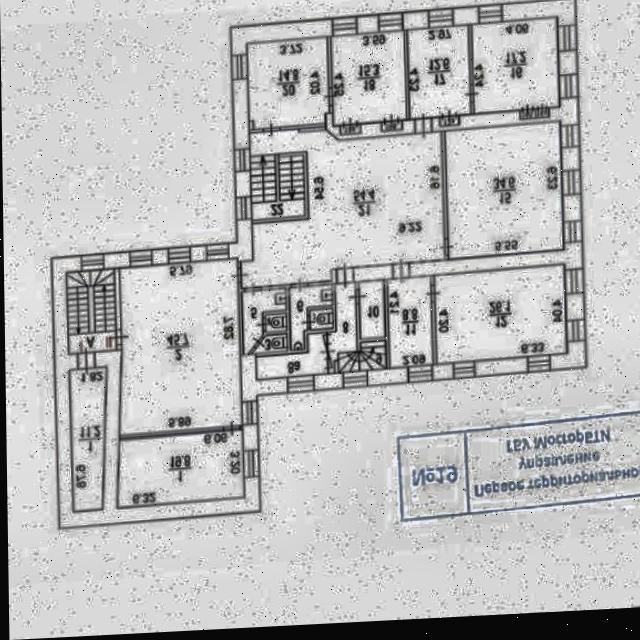room: (237, 128, 444, 290), (114, 261, 240, 438), (444, 127, 562, 264), (428, 270, 570, 368), (110, 431, 247, 510), (471, 23, 559, 119), (243, 39, 333, 132), (330, 34, 406, 129), (406, 29, 470, 123), (64, 367, 105, 513), (324, 285, 385, 376), (65, 269, 116, 355), (386, 280, 432, 372), (252, 335, 329, 382), (241, 291, 285, 357), (288, 288, 332, 353), (358, 285, 384, 341), (250, 336, 287, 357), (308, 312, 333, 333), (263, 316, 286, 336), (380, 125, 402, 134), (440, 120, 458, 131), (519, 114, 534, 123), (535, 114, 549, 122)
